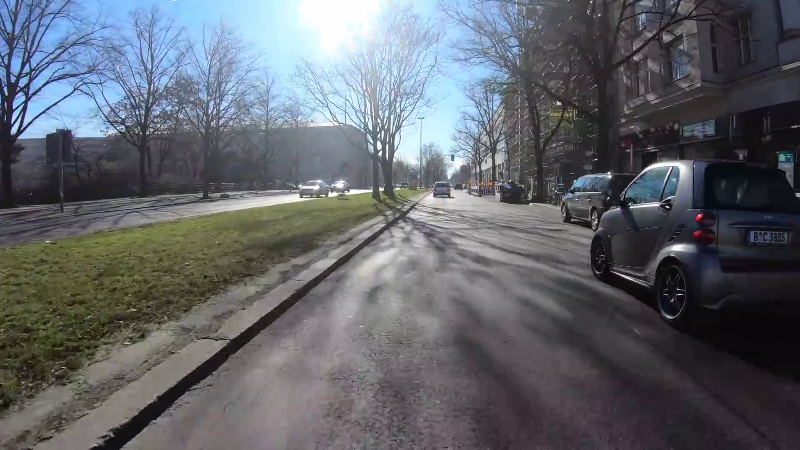Plate: (745, 227, 789, 247)
